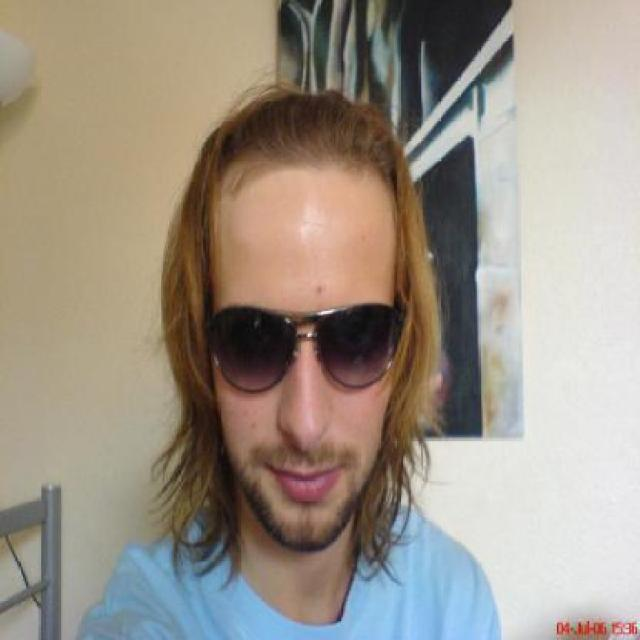face_nomask: (213, 287, 399, 505)
glasses: (202, 288, 404, 406)
head_nohelmet: (188, 88, 430, 241)
